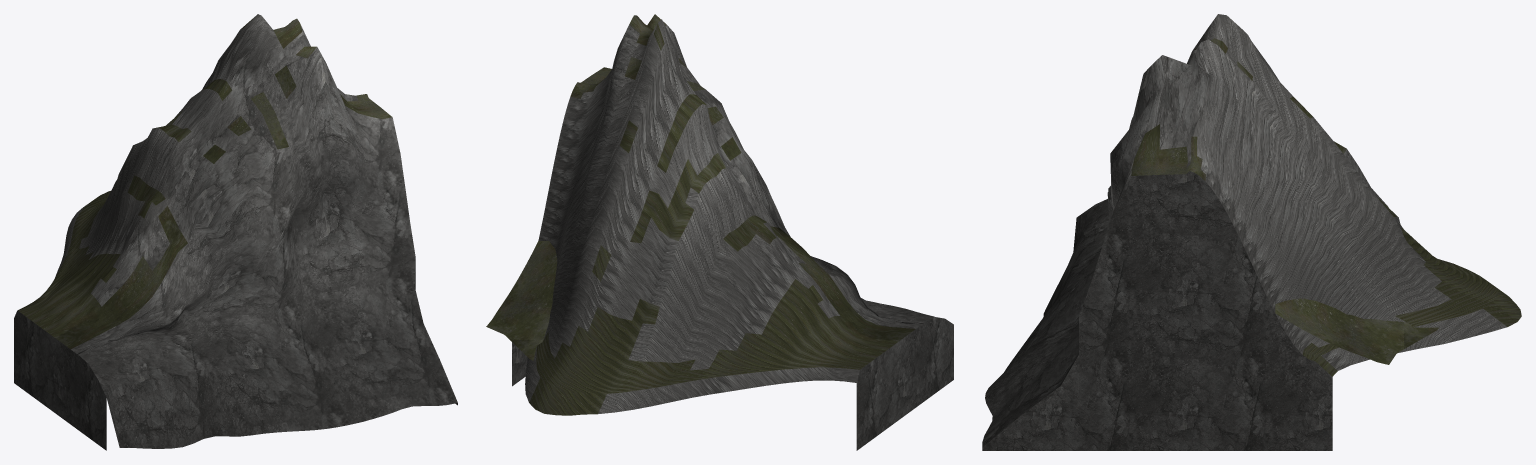
The model's file is seacliff_endcap_left_h3_b_v5_summer.glb.
3 views of the same model, side by side, from view 1: azimuth 30°, elevation 25°; view 2: azimuth 150°, elevation 25°; view 3: azimuth 270°, elevation 25° (orthographic). The views are drawn at different scales.
Parts seen in each view (by area): view 1: seacliff_endcap_left_h3_b; view 2: seacliff_endcap_left_h3_b; view 3: seacliff_endcap_left_h3_b.
Boxes of the visible parts, x1,y1,x2,y2 form: seacliff_endcap_left_h3_b: [14, 14, 457, 450]; seacliff_endcap_left_h3_b: [486, 14, 953, 450]; seacliff_endcap_left_h3_b: [982, 14, 1521, 450].
Bounding box in the file's own units: 6 × 6.25 × 7.92.
Materials: 2 (2 with a texture image).
